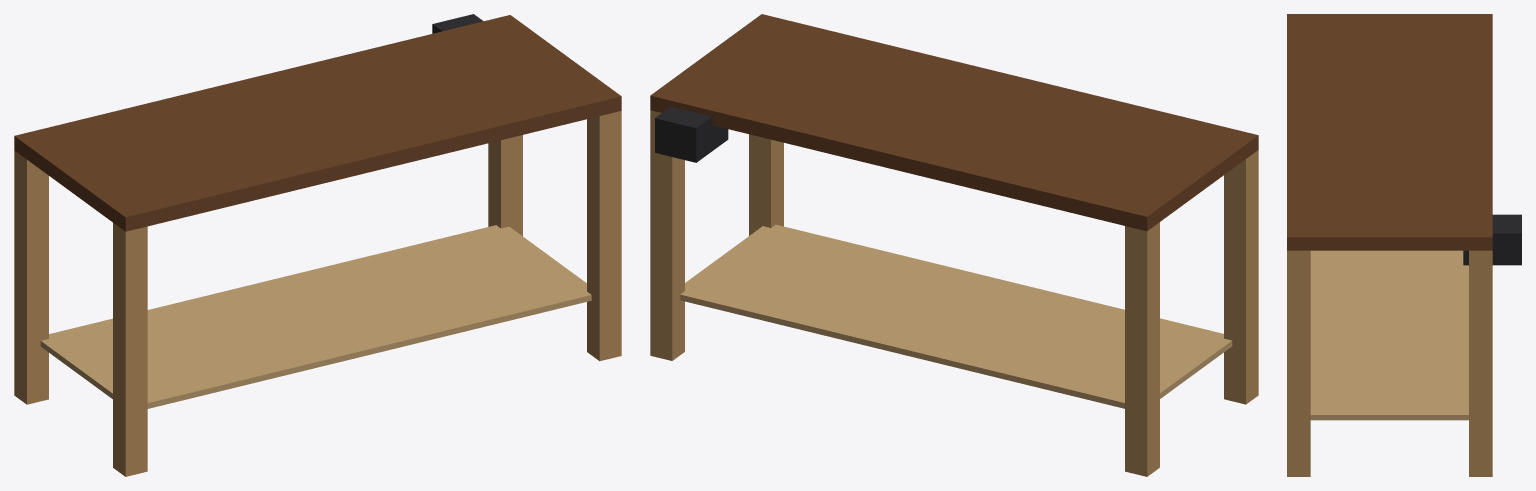
The model's file is furniture.table.workbench.glb.
3 views of the same model, side by side, from view 1: azimuth 30°, elevation 25°; view 2: azimuth 150°, elevation 25°; view 3: azimuth 270°, elevation 25° (orthographic). The views are drawn at different scales.
Visible parts, largest first — view 1: main__hardwood, main__plywood, main__softwood; view 2: main__hardwood, main__plywood, main__softwood, main__cast_iron; view 3: main__hardwood, main__plywood, main__softwood, main__cast_iron.
Boxes of the visible parts, x1,y1,x2,y2 form: main__hardwood: (14,15,621,231); main__plywood: (40,225,591,408); main__softwood: (14,111,621,476); main__hardwood: (650,14,1258,231); main__plywood: (680,224,1232,408); main__softwood: (650,110,1258,476); main__cast_iron: (655,106,728,162); main__hardwood: (1287,14,1492,250); main__plywood: (1310,250,1468,420); main__softwood: (1287,250,1492,476); main__cast_iron: (1463,214,1521,265).
Size of the model in its own units: 1.8 by 0.9 by 0.8.
